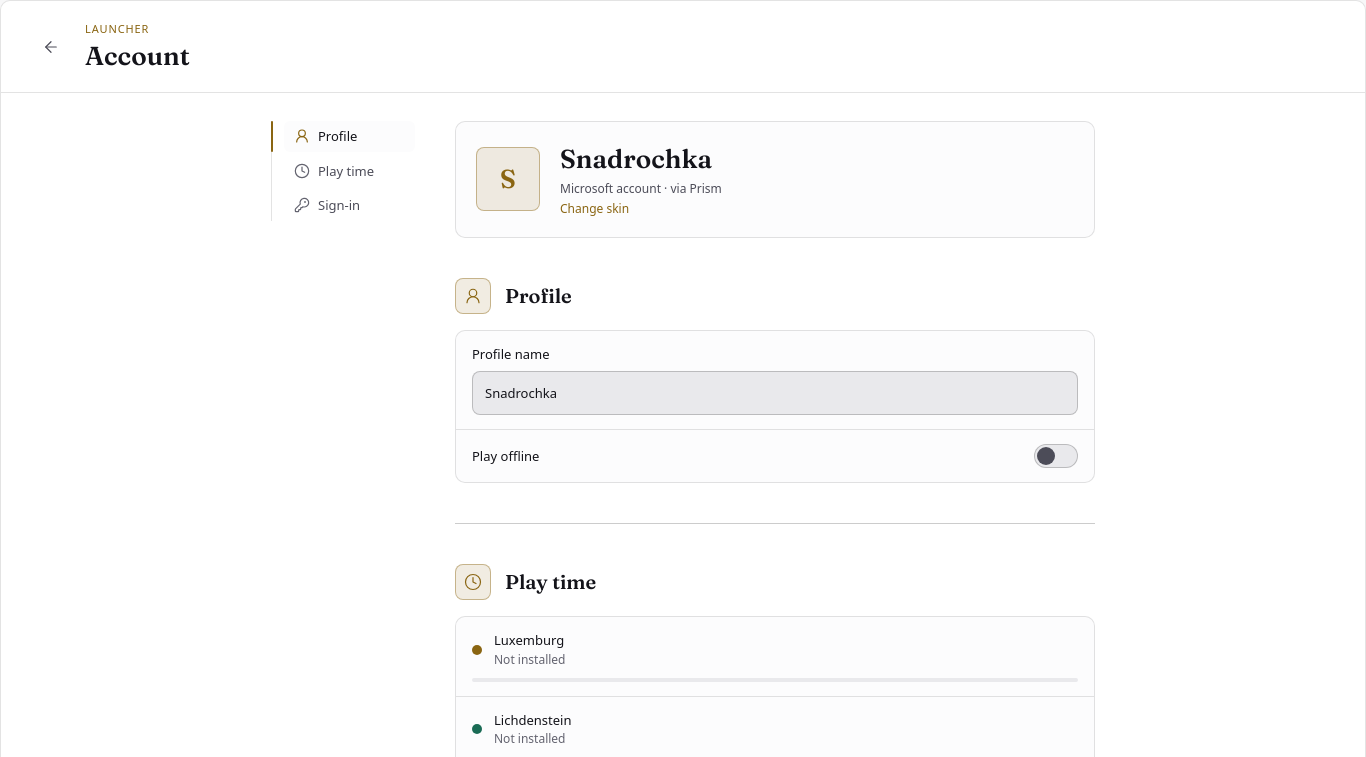
AccountPanel › shows a refusal under the field and puts the old name back
Replace the text in the field labelled "Profile name" with "-x". click: x=775, y=393
box: [472, 371, 1078, 415]
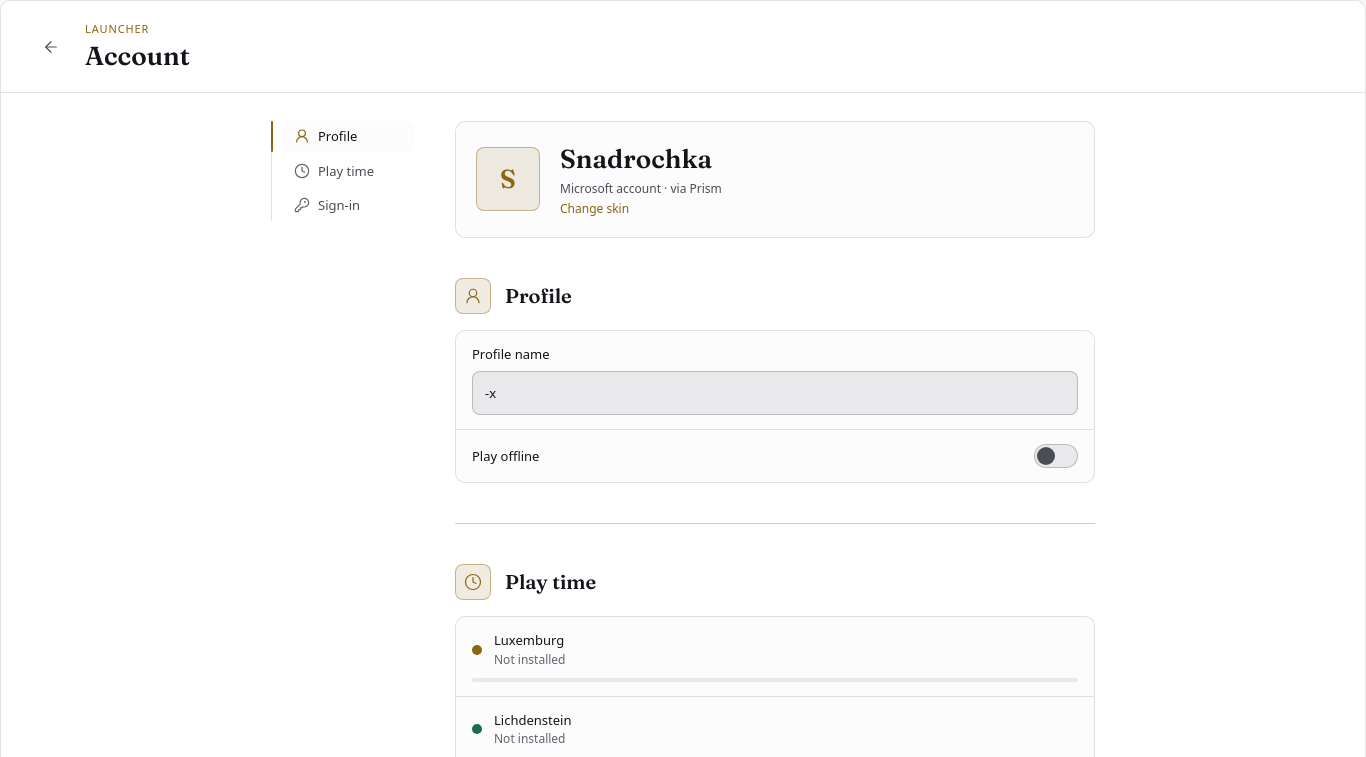
Press Enter in the field labelled "Profile name", box [472, 371, 1078, 415]
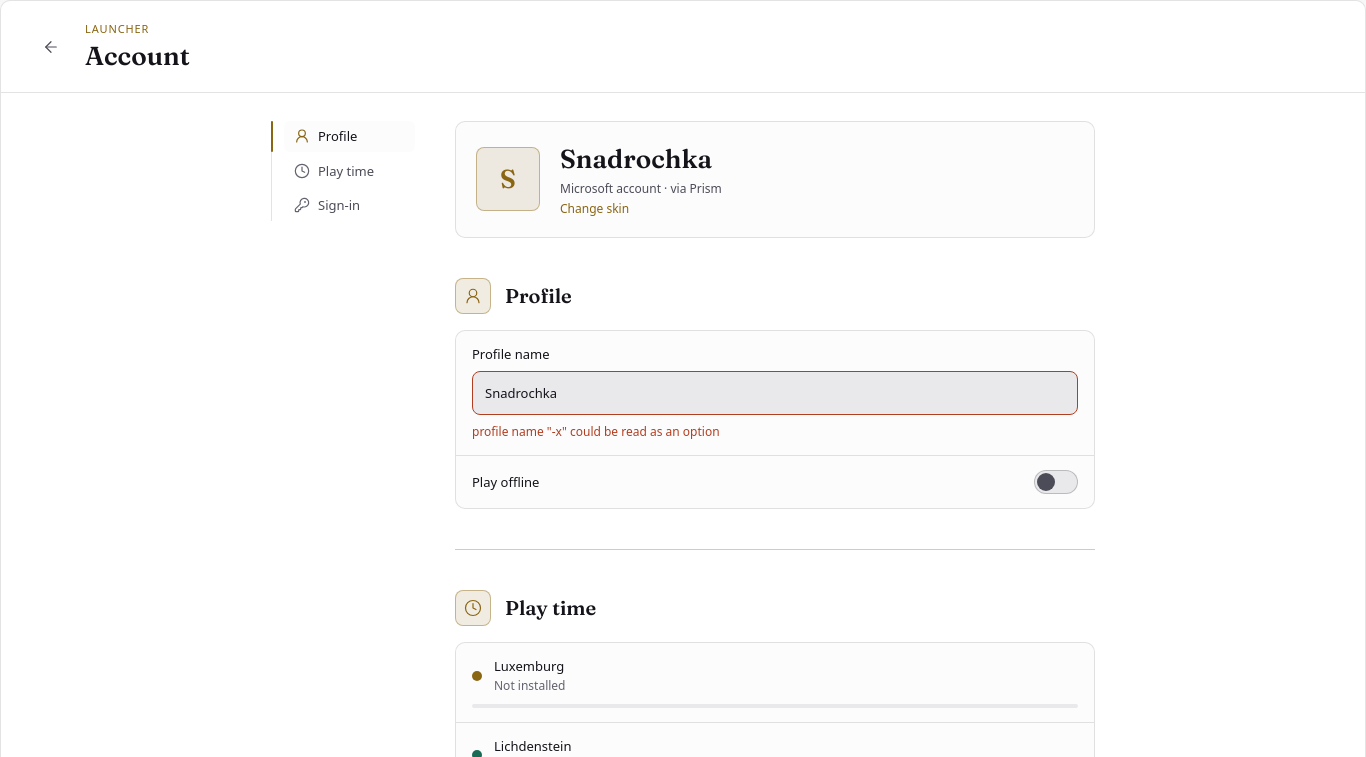
Expected: the text "profile name \"-x\" could be read as an option" is shown, [472, 423, 720, 440]
Expected: the field labelled "Profile name" holds "Snadrochka", [472, 371, 1078, 415]
